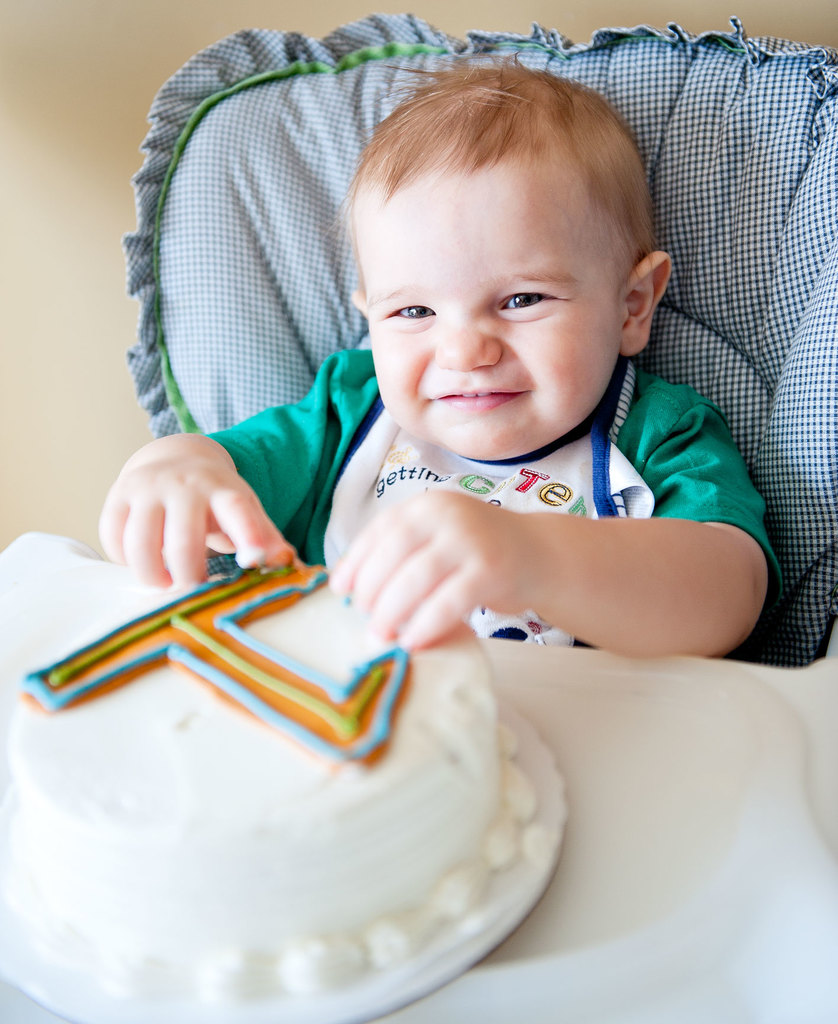cake: (1, 560, 543, 1001)
